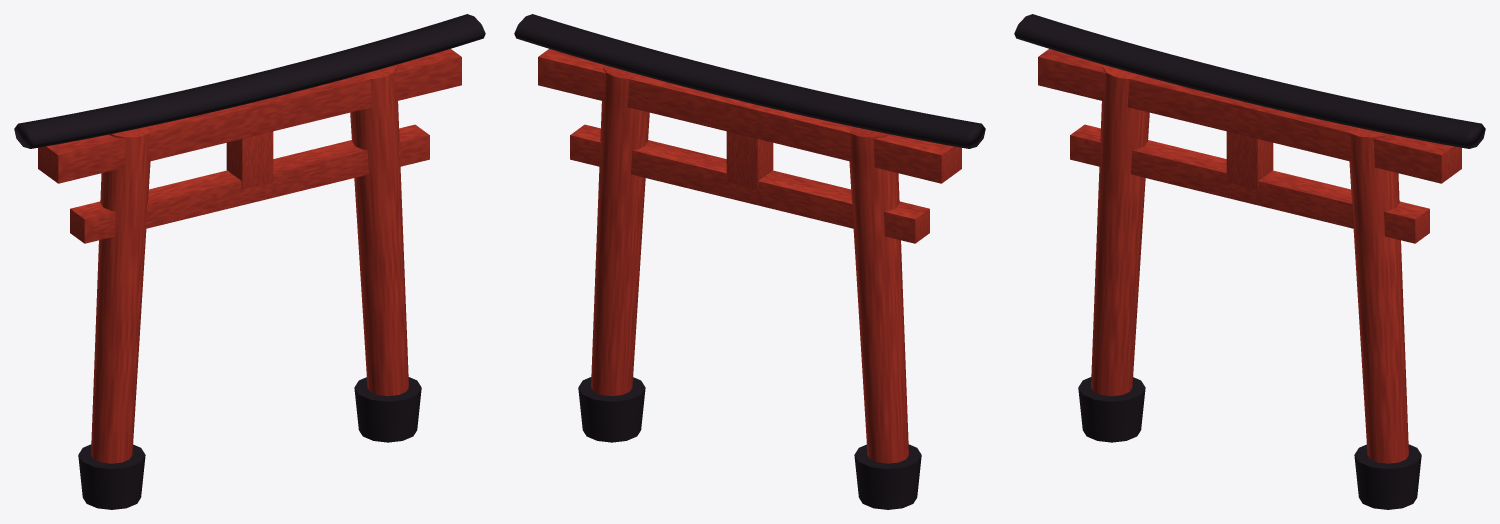
File: prop_torii_gate.obj
The picture shows the model from 3 angles, left to right: view 1: azimuth 30°, elevation 25°; view 2: azimuth 150°, elevation 25°; view 3: azimuth 330°, elevation 25°; orthographic projection.
Visible parts, largest first — view 1: torii_red_pillars, torii_dark_cap; view 2: torii_red_pillars, torii_dark_cap; view 3: torii_red_pillars, torii_dark_cap.
Boxes of the visible parts, <box> form: torii_red_pillars: <box>38,49,461,463</box>; torii_dark_cap: <box>14,14,485,509</box>; torii_red_pillars: <box>538,49,961,463</box>; torii_dark_cap: <box>514,14,985,509</box>; torii_red_pillars: <box>1038,49,1461,463</box>; torii_dark_cap: <box>1014,14,1485,509</box>.
Size of the model in its own units: 4.67 by 3.87 by 0.6.
Materials: 2 (2 with a texture image).
